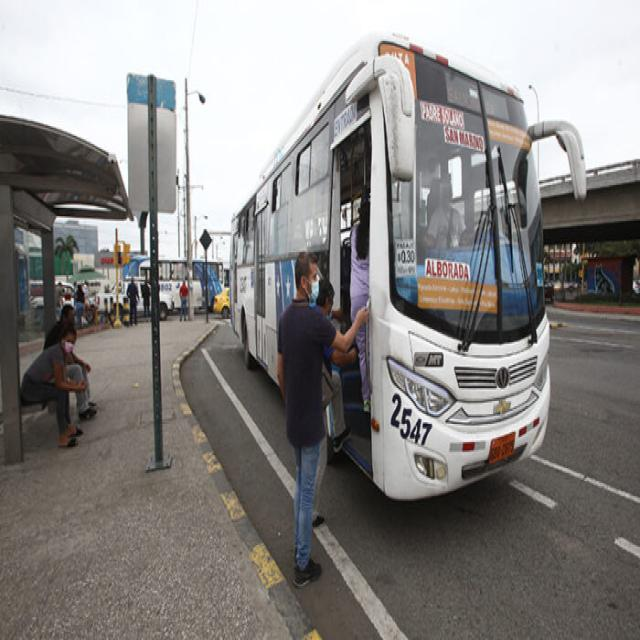BUS: (239, 30, 551, 495)
